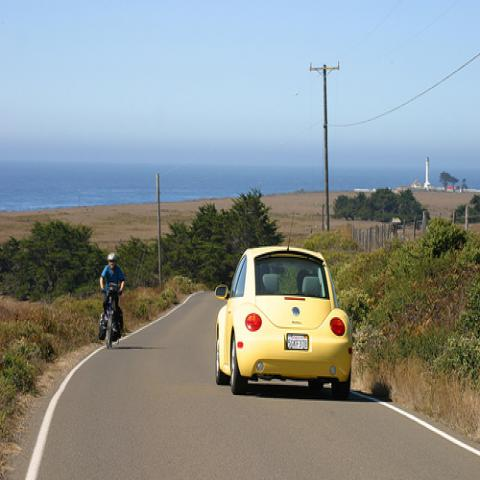car: (207, 244, 352, 395)
